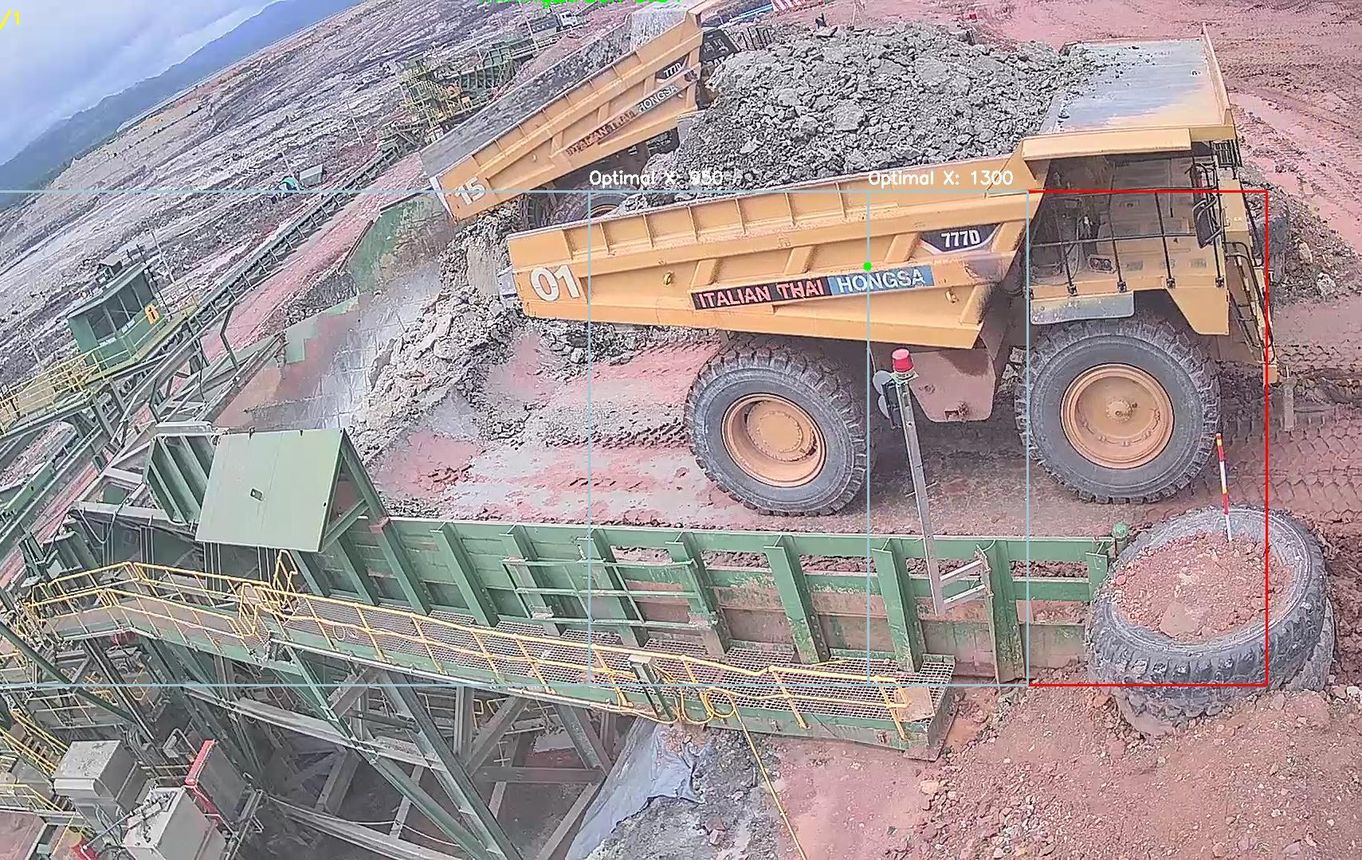company: (673, 255, 946, 312)
full_load: (718, 17, 1034, 214)
mining_truck: (503, 5, 1306, 511)
tail_number: (518, 253, 592, 315)
truck_size: (909, 208, 1002, 258)
